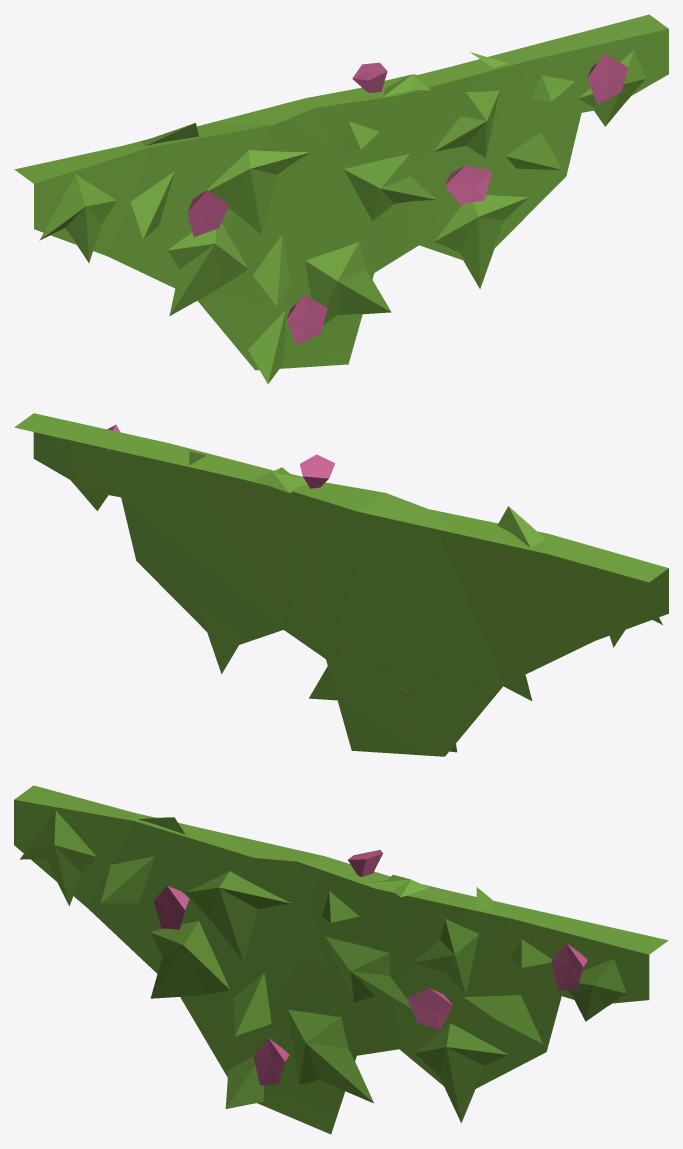
File: empire-ivy-medium-blossom-empire.glb
The picture shows the model from 3 angles, top to bottom: view 1: azimuth 30°, elevation 25°; view 2: azimuth 150°, elevation 25°; view 3: azimuth 330°, elevation 25°; orthographic projection.
Visible parts, largest first — view 1: SM_Ivy_Medium_Blossom_Empire; view 2: SM_Ivy_Medium_Blossom_Empire; view 3: SM_Ivy_Medium_Blossom_Empire.
Boxes of the visible parts, x1,y1,x2,y2 form: SM_Ivy_Medium_Blossom_Empire: (14, 14, 668, 383); SM_Ivy_Medium_Blossom_Empire: (14, 413, 668, 756); SM_Ivy_Medium_Blossom_Empire: (14, 785, 668, 1134).
Size of the model in its own units: 3 by 1.29 by 0.267.
